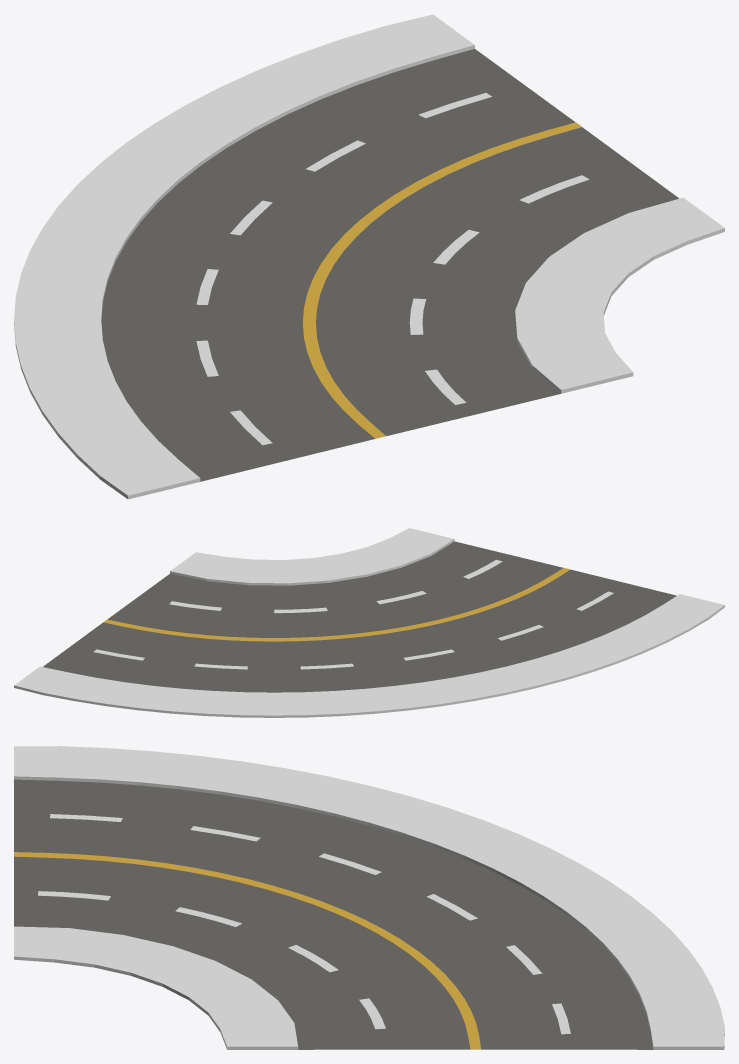
Rendered from RoadCornerV3.fbx.
The picture shows the model from 3 angles, top to bottom: view 1: azimuth 30°, elevation 25°; view 2: azimuth 150°, elevation 25°; view 3: azimuth 270°, elevation 25°; orthographic projection. The views are drawn at different scales.
Parts seen in each view (by area): view 1: CornerRoad; view 2: CornerRoad; view 3: CornerRoad.
Boxes of the visible parts, <box> form: CornerRoad: <box>14,14,724,499</box>; CornerRoad: <box>14,528,724,717</box>; CornerRoad: <box>14,746,724,1049</box>.
Bounding box in the file's own units: 2002 × 10 × 2002.
Materials: 1 (1 with a texture image).
